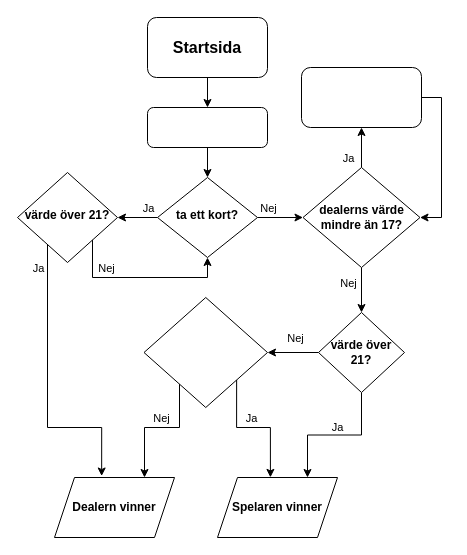
Image size: 467x555. Some labels were removed from this diagram. Each missing label, with the centre of its shape:
"dealern tar ett kort" goes at [361,97].
"Ett kort till dealern Två till spelaren" goes at [207,127].
"spelarens värde större än dealerns värde?" goes at [205,352].
